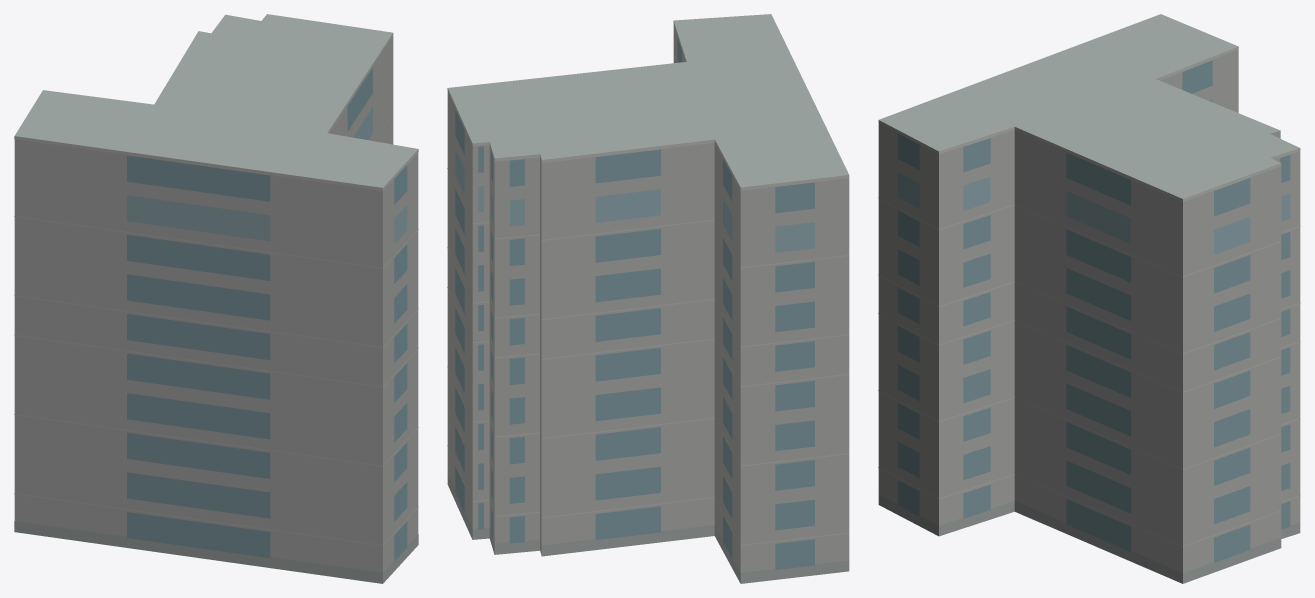
The model's file is survey-upis-32695116.glb.
The picture shows the model from 3 angles, left to right: view 1: azimuth 30°, elevation 25°; view 2: azimuth 150°, elevation 25°; view 3: azimuth 270°, elevation 25°; orthographic projection. The views are drawn at different scales.
Visible parts, largest first — view 1: survey-upis-32695116.tmp; view 2: survey-upis-32695116.tmp; view 3: survey-upis-32695116.tmp.
Boxes of the visible parts, x1,y1,x2,y2 form: survey-upis-32695116.tmp: (14, 14, 418, 583); survey-upis-32695116.tmp: (447, 14, 849, 583); survey-upis-32695116.tmp: (878, 14, 1300, 583).
Bounding box in the file's own units: 31.45 × 30.5 × 30.31.
